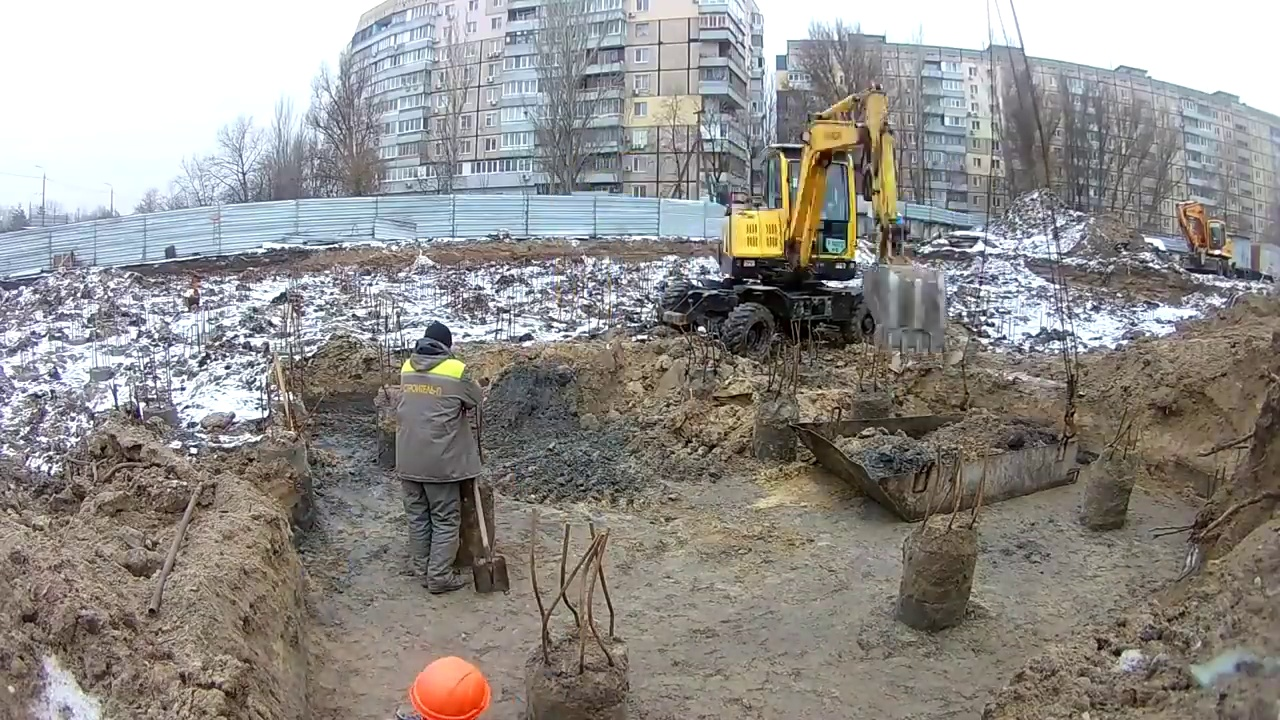helmet: (409, 654, 490, 720)
helmet-off: (416, 325, 454, 359)
person: (392, 324, 485, 594)
